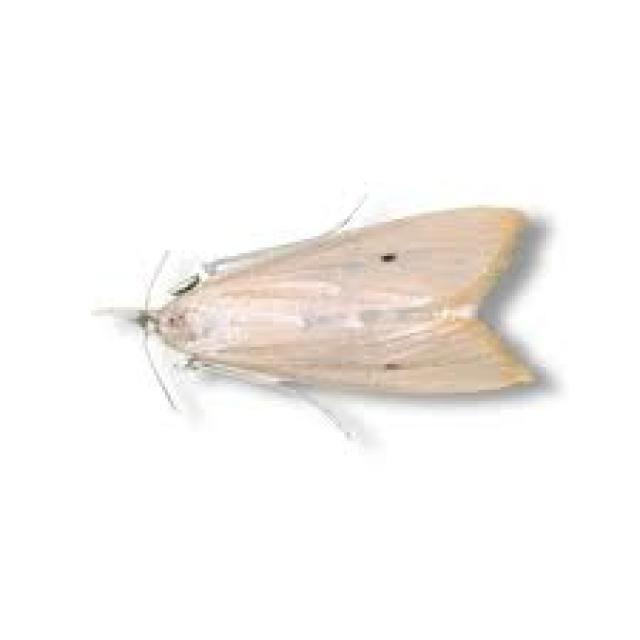yellow-stem-borer: (89, 166, 606, 484)
